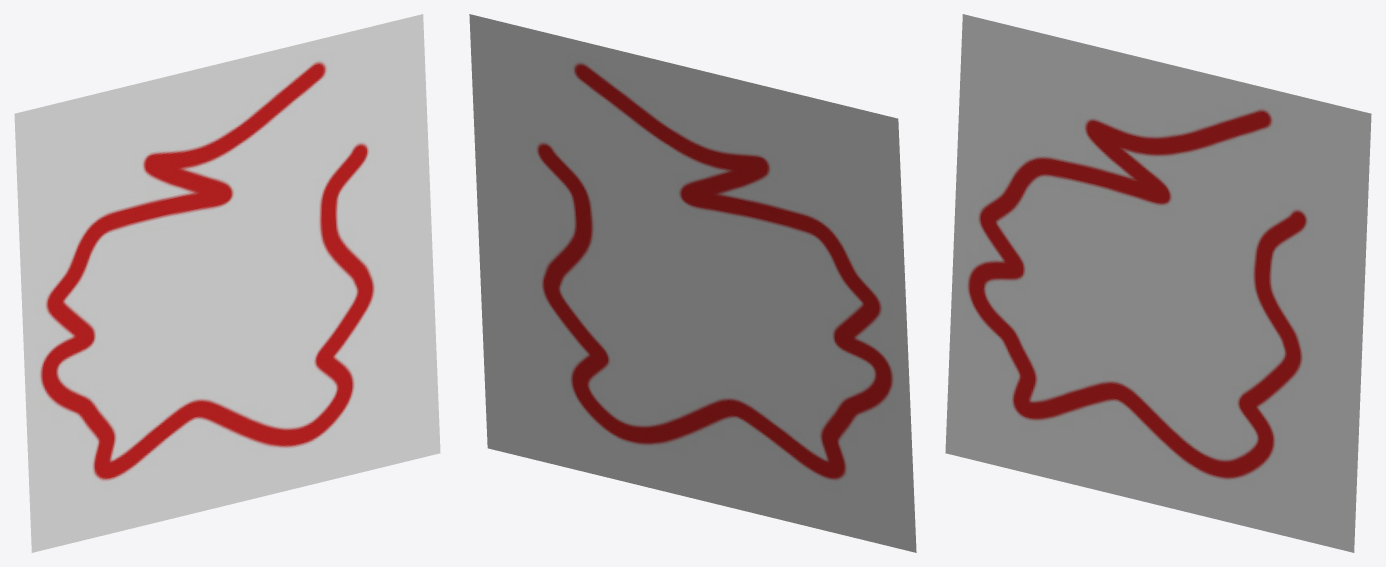
The picture shows the model from 3 angles, left to right: view 1: azimuth 30°, elevation 25°; view 2: azimuth 150°, elevation 25°; view 3: azimuth 330°, elevation 25°; orthographic projection. The views are drawn at different scales.
Parts seen in each view (by area): view 1: Grid; view 2: Grid; view 3: Grid.
Part boxes in pixels (x1,y1,x2,y2): Grid: (14, 14, 440, 552); Grid: (469, 14, 916, 552); Grid: (945, 14, 1371, 552).
Bounding box in the file's own units: 2 × 1.99 × 0.1471.
1 material, 1 textured.
